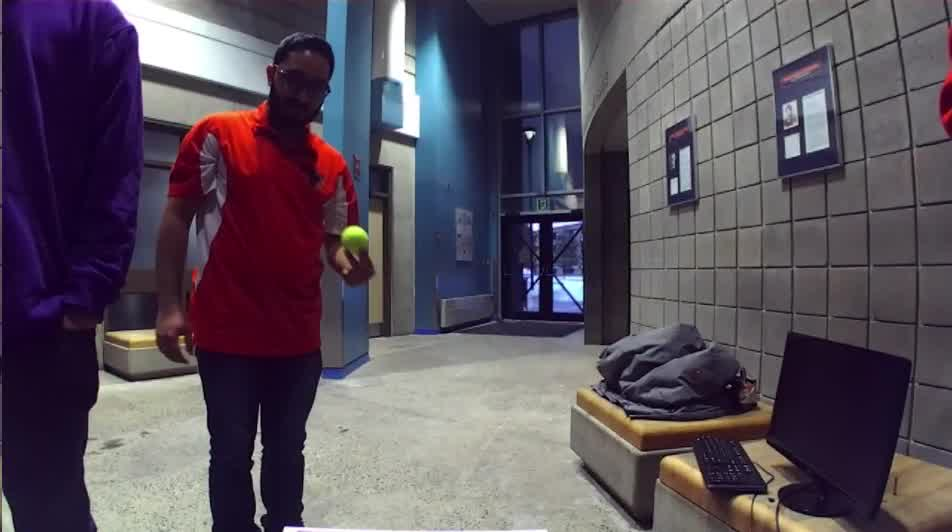tennis_ball: (339, 223, 370, 255)
